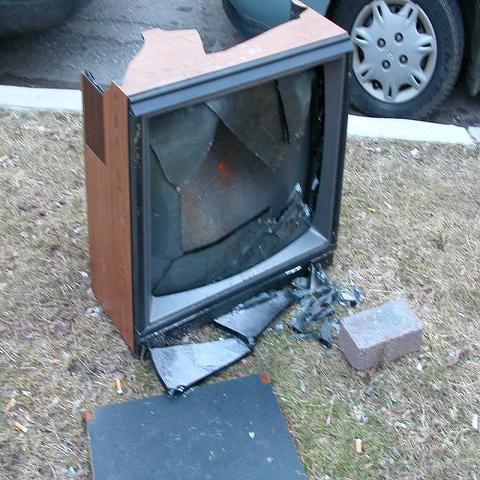car: (220, 0, 480, 122)
